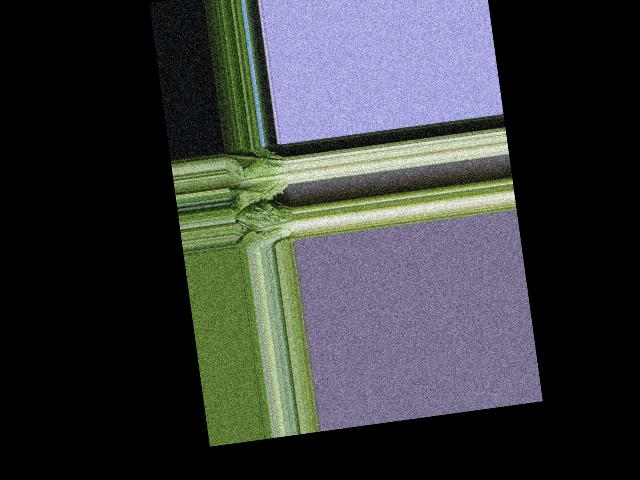lettuce: (234, 200, 296, 247)
